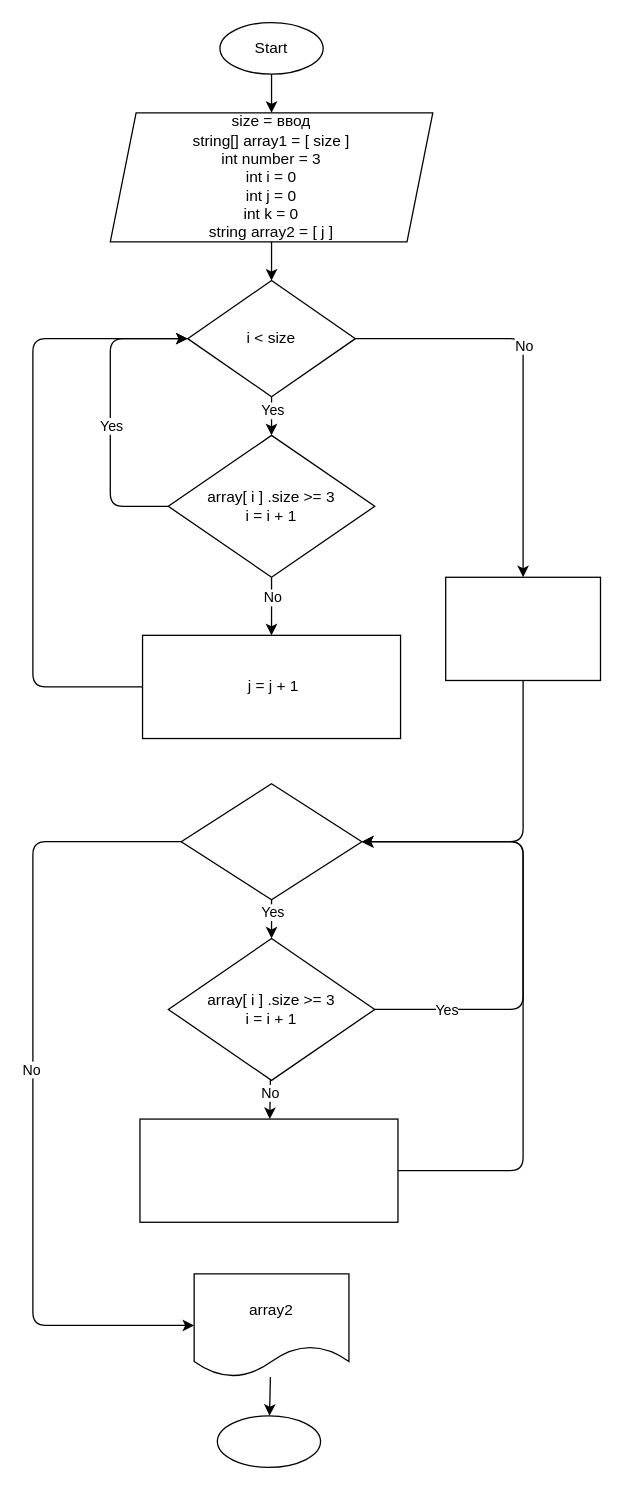
This 623x1490 diagram has some shape labels left out. Here are the shapes that lost their labels. From the top down, the centre of each, then its label:
point 522,628: i = 0
point 271,841: k < j
point 268,1170: array2[k] = array[ i ] k = k + 1
point 268,1440: Finish
